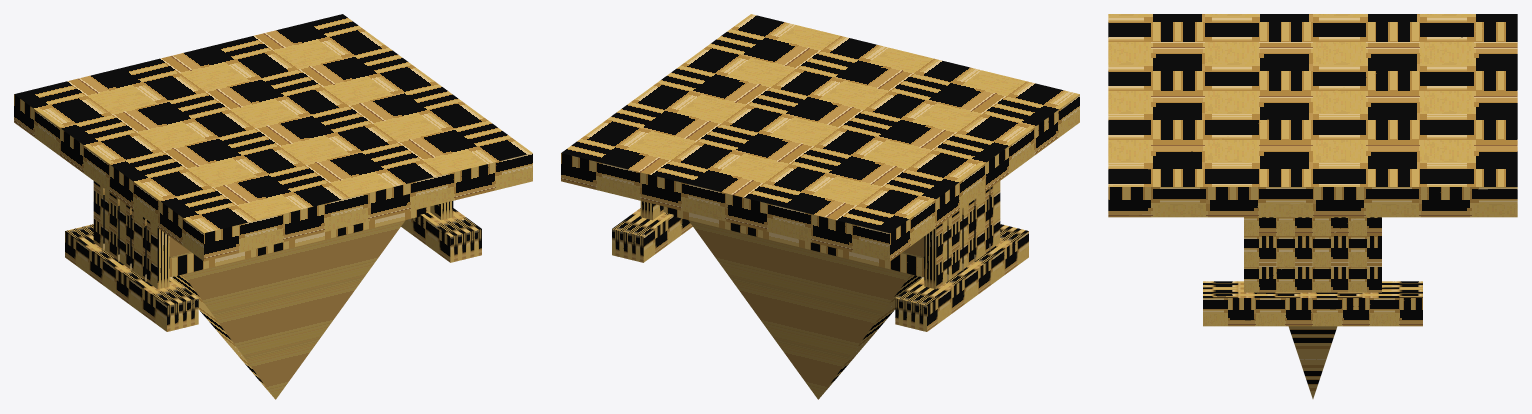
3 views of the same model, side by side, from view 1: azimuth 30°, elevation 25°; view 2: azimuth 150°, elevation 25°; view 3: azimuth 270°, elevation 25° (orthographic). The views are drawn at different scales.
Parts seen in each view (by area): view 1: 3604kg_15_ta0; view 2: 3604kg_15_ta0; view 3: 3604kg_15_ta0.
Boxes of the visible parts, x1=… form: 3604kg_15_ta0: x1=14, y1=14, x2=532, y2=399; 3604kg_15_ta0: x1=561, y1=14, x2=1079, y2=399; 3604kg_15_ta0: x1=1108, y1=14, x2=1517, y2=398.
Size of the model in its own units: 1.95 by 1.57 by 1.95.
1 material, 1 textured.
